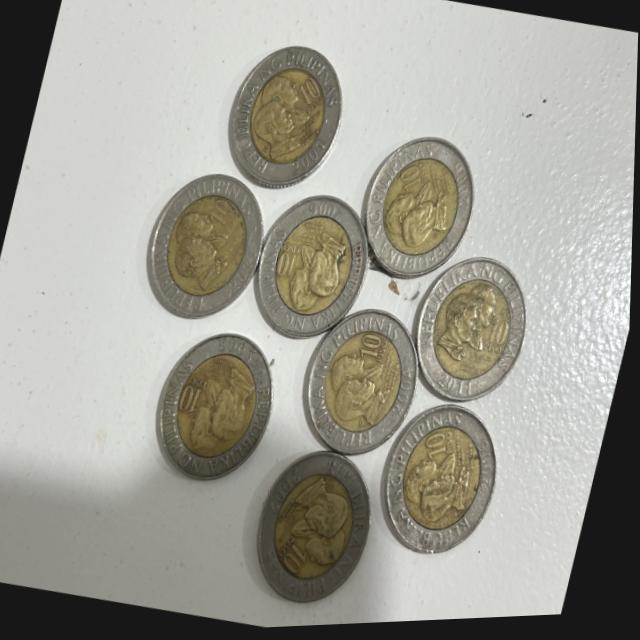10_Old_Front: (394, 155, 439, 205), (289, 73, 334, 122), (420, 428, 462, 475), (270, 240, 308, 290), (275, 537, 314, 585), (352, 331, 394, 372), (174, 376, 210, 422), (207, 197, 246, 237), (480, 318, 513, 363)
